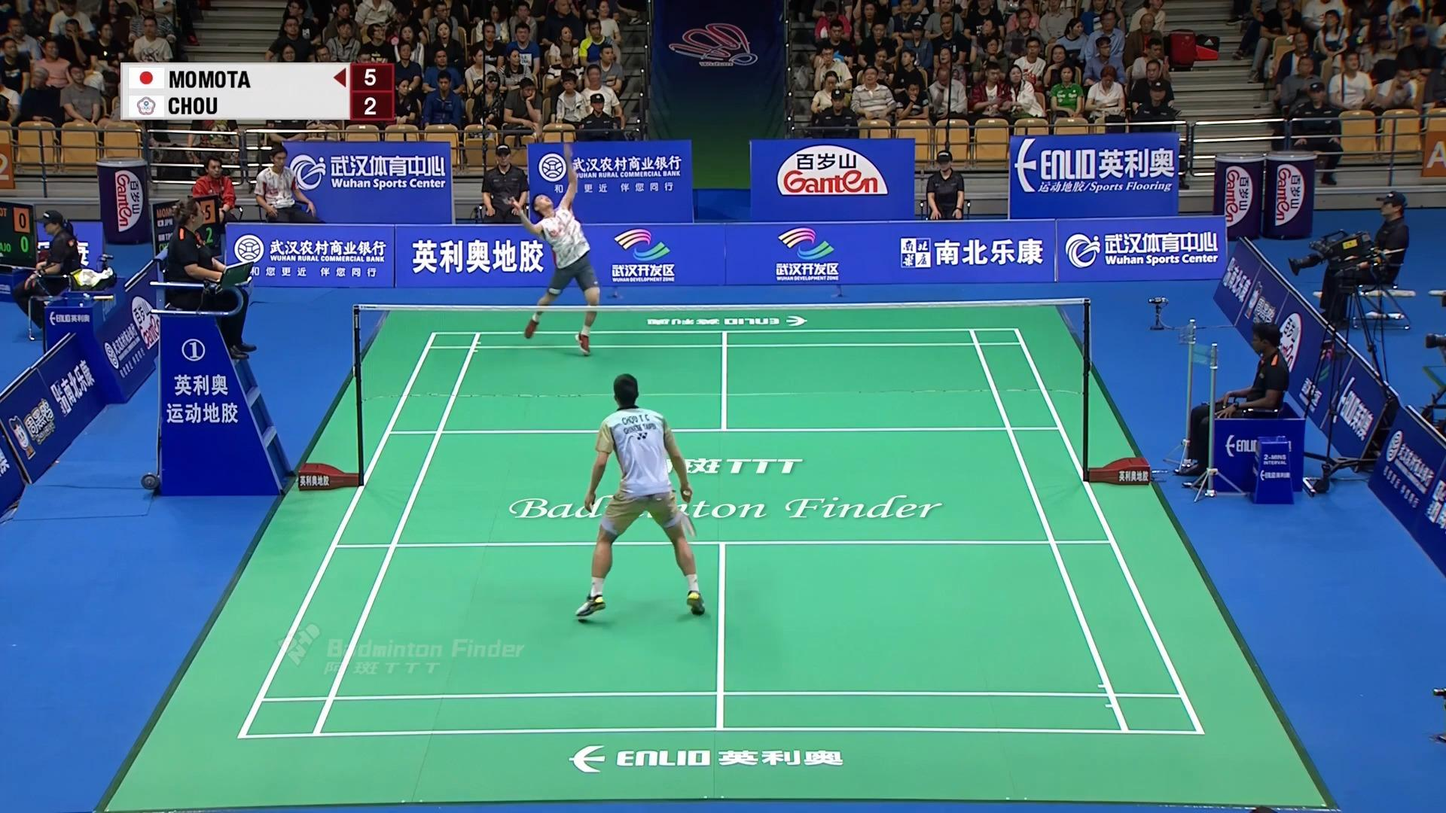player: (577, 371, 706, 620), (515, 143, 601, 356)
